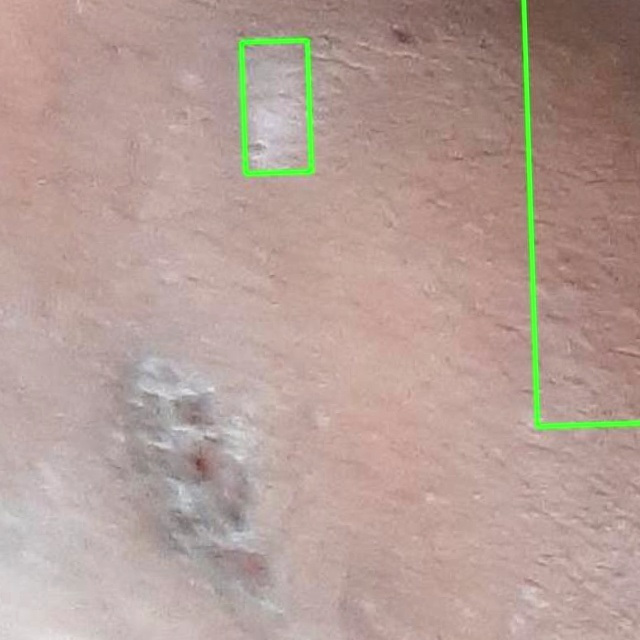Atopic Dermatitis: (241, 40, 311, 174)
